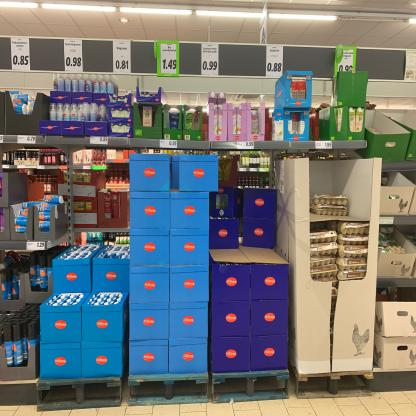prtg: (12, 39, 32, 72), (65, 40, 84, 73), (114, 42, 132, 74), (202, 45, 220, 76), (267, 47, 284, 78), (161, 44, 177, 75), (339, 50, 354, 73), (91, 137, 109, 146), (18, 137, 37, 145), (28, 243, 46, 251), (316, 142, 333, 150), (238, 142, 255, 150), (161, 141, 178, 149), (1, 136, 4, 144)
